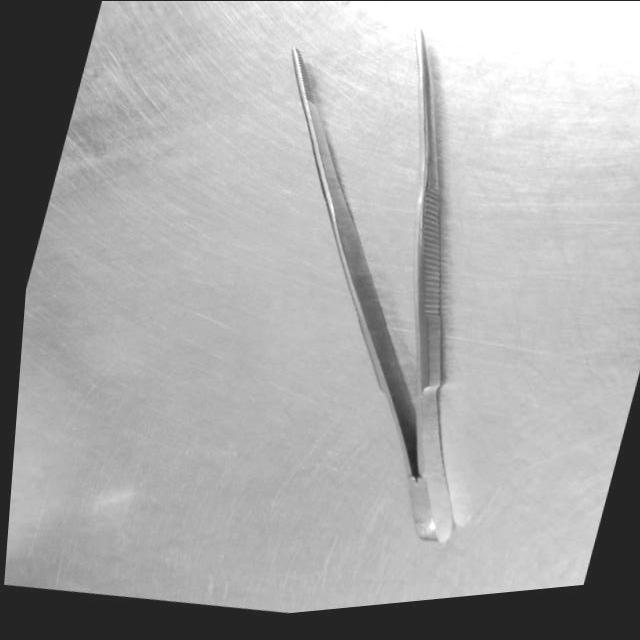General: (288, 25, 457, 546)
Pathological: (2, 1, 639, 616)
Sharps: (408, 27, 454, 543)
